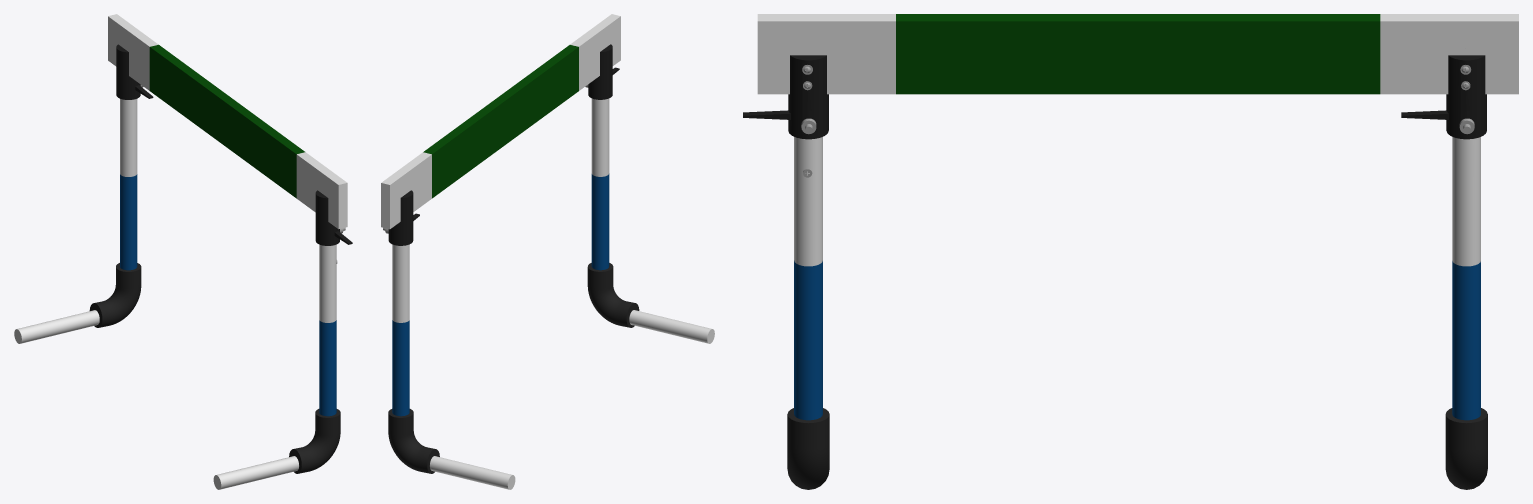
Rendered from hurdle.fbx.
3 renders of one model, left to right at view 1: azimuth 30°, elevation 25°; view 2: azimuth 150°, elevation 25°; view 3: azimuth 270°, elevation 25°, orthographic. The views are drawn at different scales.
Parts seen in each view (by area): view 1: polySurface2, pCylinder8, pCylinder3, pCylinder6, pCylinder4, pCylinder5, pCylinder2, polySurface8, polySurface1; view 2: polySurface2, pCylinder8, pCylinder3, pCylinder4, pCylinder6, pCylinder2, pCylinder5, polySurface1, polySurface8; view 3: polySurface2, pCylinder3, pCylinder8, polySurface1, polySurface8, pCylinder4, pCylinder6.
Part boxes in pixels (<box>): polySurface2: <box>108,14,347,229</box>; pCylinder8: <box>319,244,336,416</box>; pCylinder3: <box>120,99,137,270</box>; pCylinder6: <box>89,263,141,327</box>; pCylinder4: <box>289,409,340,473</box>; pCylinder5: <box>14,310,99,343</box>; pCylinder2: <box>213,456,298,489</box>; polySurface8: <box>315,190,352,245</box>; polySurface1: <box>116,44,153,99</box>; polySurface2: <box>381,14,620,229</box>; pCylinder8: <box>591,98,609,270</box>; pCylinder3: <box>392,244,409,416</box>; pCylinder4: <box>587,263,639,327</box>; pCylinder6: <box>388,409,439,473</box>; pCylinder2: <box>629,310,714,343</box>; pCylinder5: <box>430,456,515,489</box>; polySurface1: <box>383,190,419,245</box>; polySurface8: <box>585,44,619,99</box>; polySurface2: <box>757,14,1518,94</box>; pCylinder3: <box>1452,137,1480,420</box>; pCylinder8: <box>794,137,822,420</box>; polySurface1: <box>1401,55,1486,139</box>; polySurface8: <box>743,55,828,139</box>; pCylinder4: <box>787,408,829,489</box>; pCylinder6: <box>1445,408,1487,489</box>.
Bounding box in the file's own units: 4.05 × 8.92 × 12.97.
